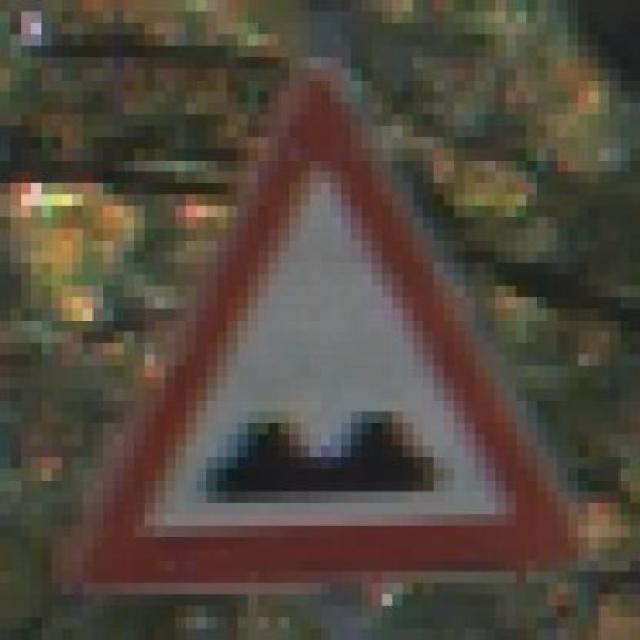Uneven Road: (65, 57, 582, 594)
